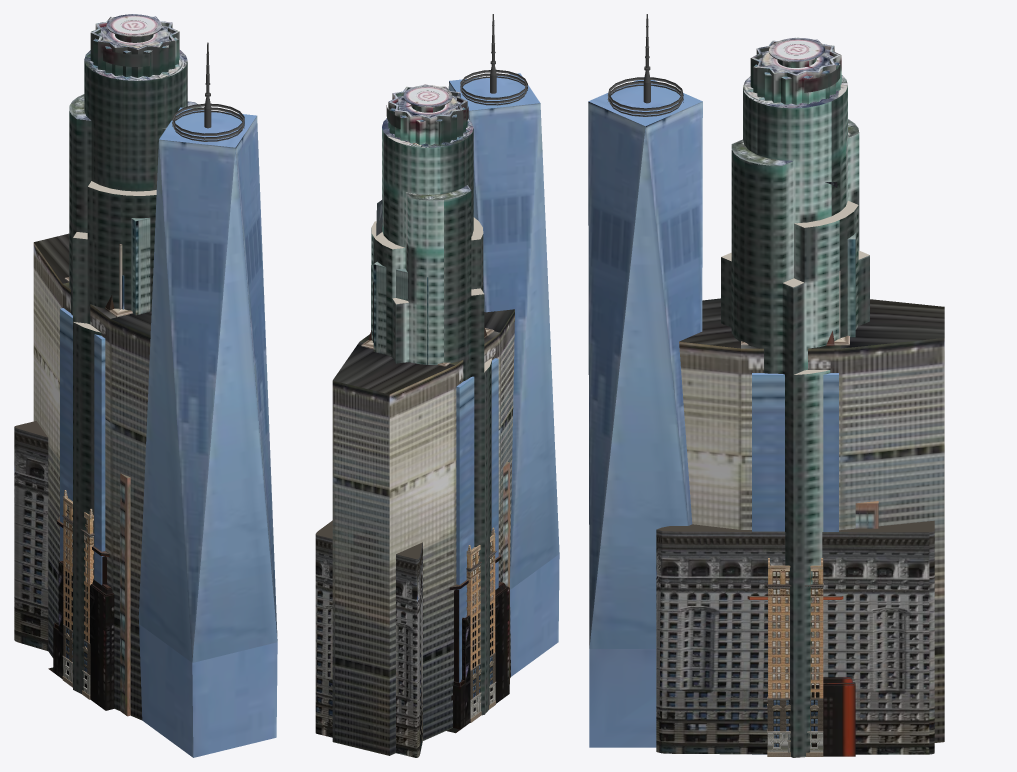
Rendered from city.glb.
The picture shows the model from 3 angles, left to right: view 1: azimuth 30°, elevation 25°; view 2: azimuth 150°, elevation 25°; view 3: azimuth 270°, elevation 25°; orthographic projection. The views are drawn at different scales.
Visible parts, largest first — view 1: nyc14_part (×2), usbank0_part (×3), nyc13_part, nyc18_part, nyc10_part, midcity14_part, whitehall0_part (×2), nyc5_part, nyc17_part; view 2: nyc13_part, nyc14_part (×2), usbank0_part (×4), nyc18_part, nyc10_part, midcity14_part, whitehall0_part (×2), nyc17_part, nyc5_part, midcity2_part; view 3: nyc14_part (×2), usbank0_part (×4), nyc18_part (×2), nyc13_part, nyc10_part, whitehall0_part (×2), midcity14_part, nyc17_part.
Boxes of the visible parts, box(x1,y1,x2,y2) form: nyc14_part (×2): box(138, 42, 277, 757); usbank0_part (×3): box(69, 14, 201, 693); nyc13_part: box(33, 233, 151, 720); nyc18_part: box(14, 427, 48, 650); nyc10_part: box(60, 308, 105, 584); midcity14_part: box(48, 560, 114, 710); whitehall0_part (×2): box(62, 490, 94, 689); nyc5_part: box(120, 473, 130, 716); nyc17_part: box(131, 218, 150, 315); nyc13_part: box(332, 309, 514, 755); nyc14_part (×2): box(448, 14, 559, 676); usbank0_part (×4): box(371, 84, 491, 715); nyc18_part: box(315, 534, 422, 757); nyc10_part: box(456, 358, 498, 682); midcity14_part: box(446, 582, 509, 733); whitehall0_part (×2): box(466, 527, 496, 713); nyc17_part: box(373, 261, 428, 364); nyc5_part: box(503, 461, 509, 683); midcity2_part: box(449, 553, 501, 700); nyc14_part (×2): box(588, 14, 702, 747); usbank0_part (×4): box(721, 37, 869, 757); nyc18_part (×2): box(656, 520, 934, 754); nyc13_part: box(679, 298, 944, 742); nyc10_part: box(752, 373, 838, 754); whitehall0_part (×2): box(766, 558, 823, 752); midcity14_part: box(812, 677, 855, 756); nyc17_part: box(847, 233, 855, 337).
Bounding box in the file's own units: 61.98 × 327 × 172.
44 materials, 41 textured.
